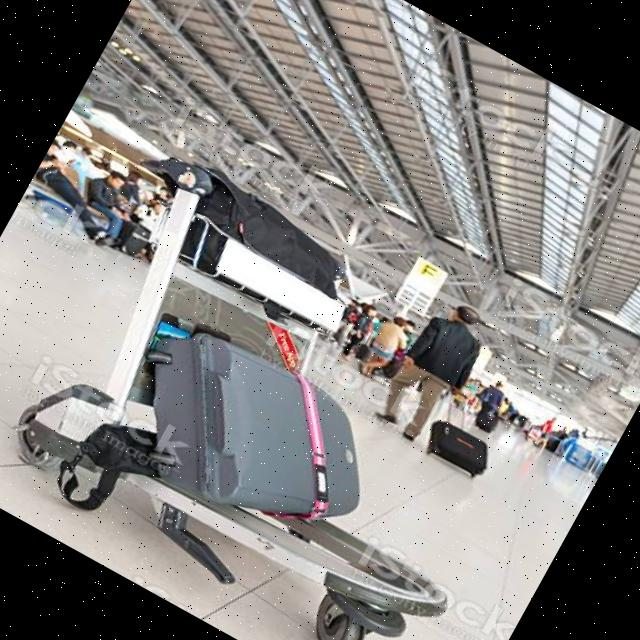Person: (369, 292, 498, 452)
